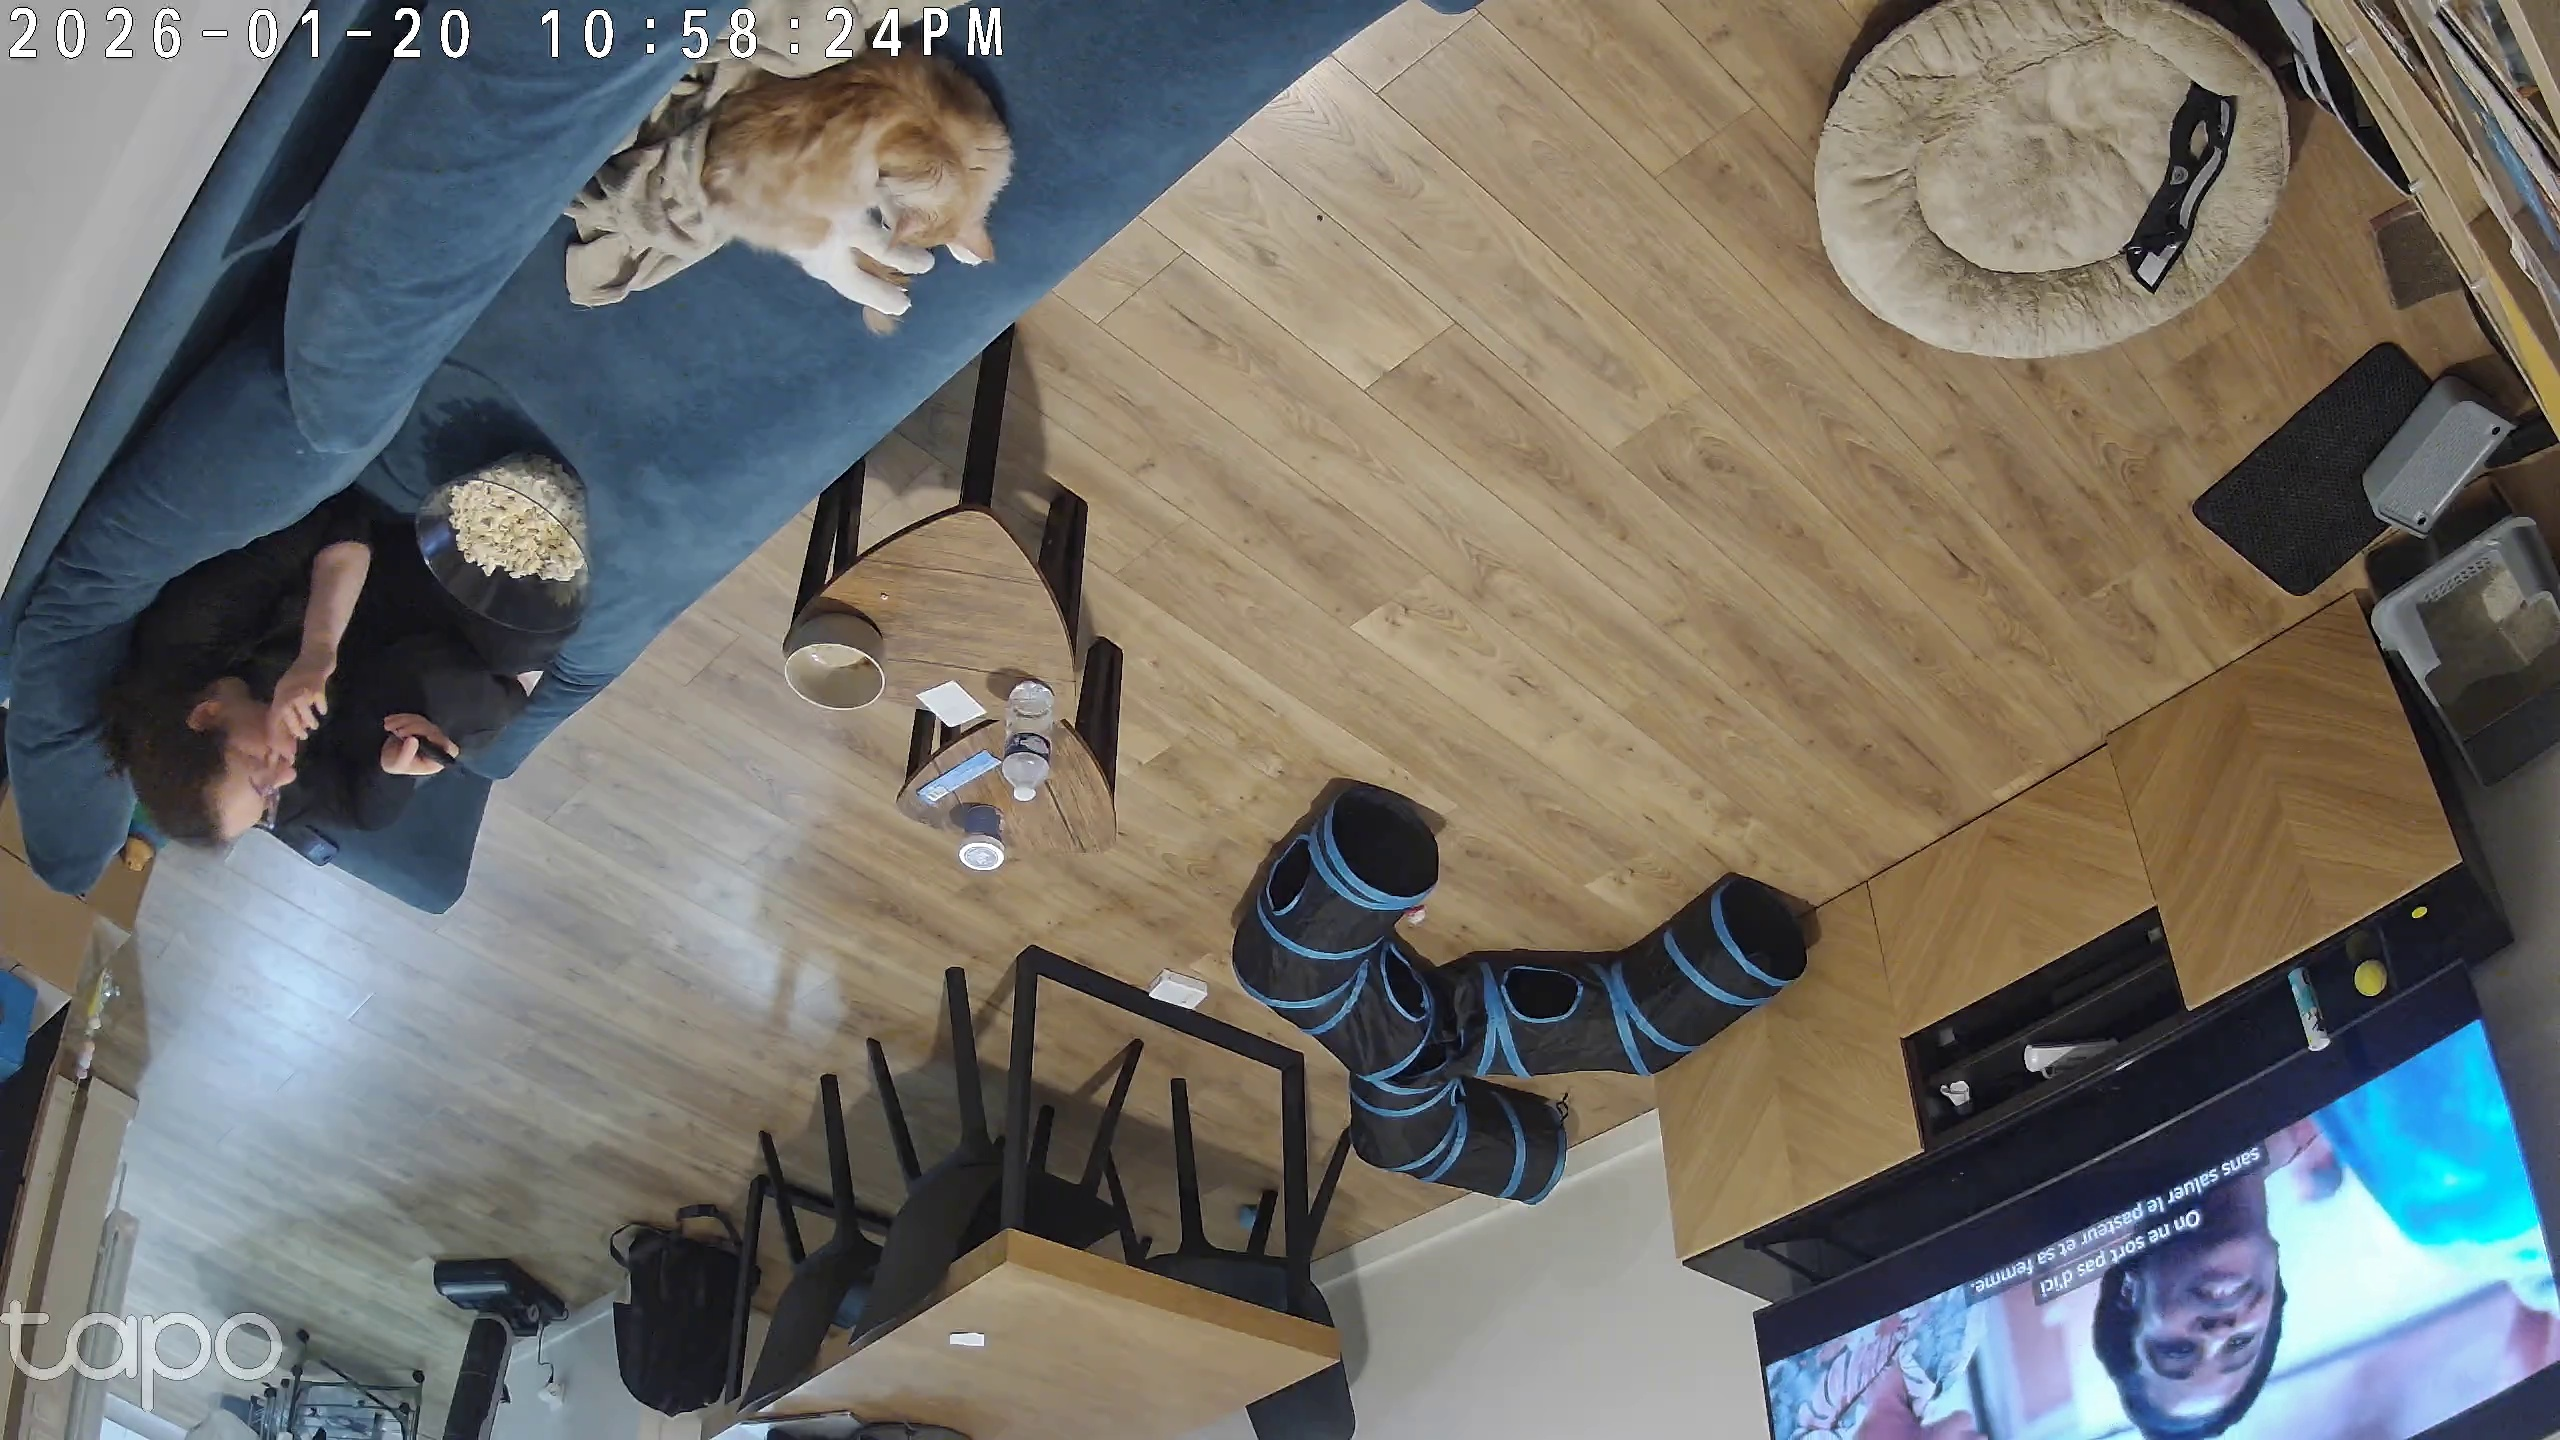Simba: (665, 16, 1018, 339)
